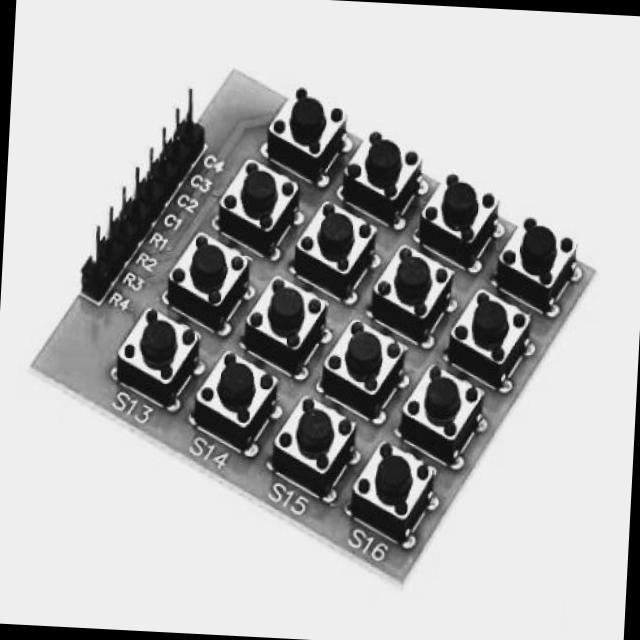connector: (78, 116, 208, 296)
